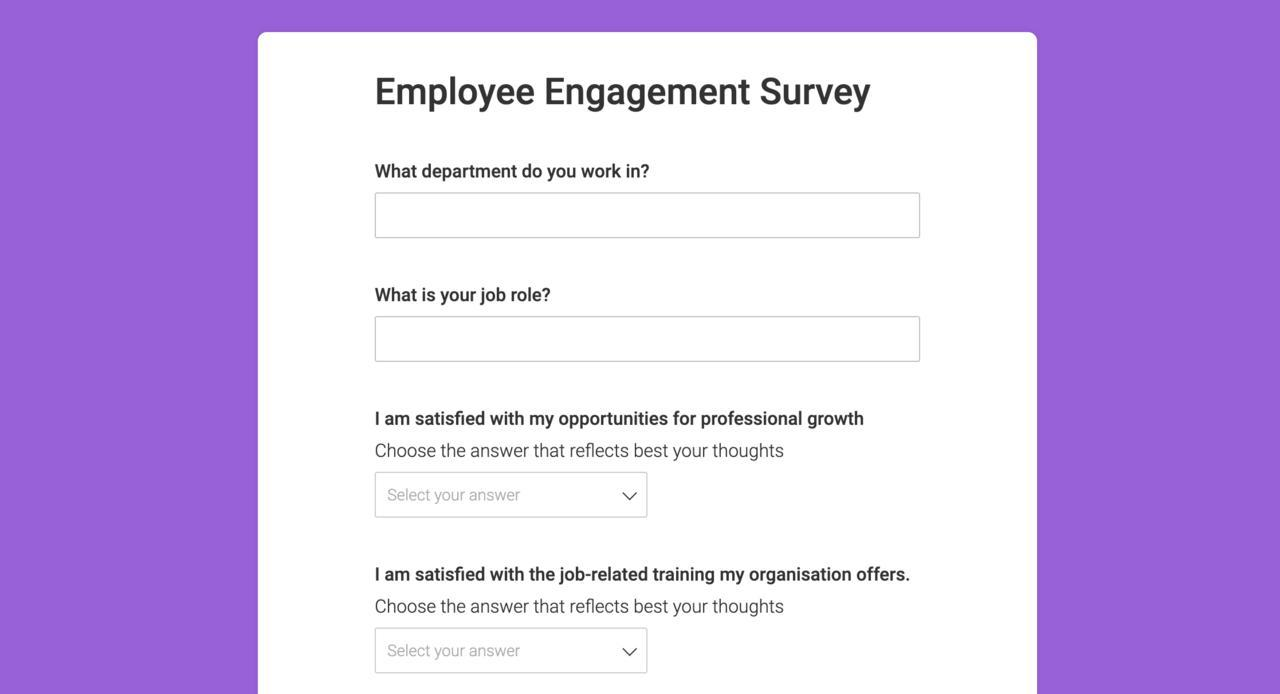dropdown: (373, 470, 646, 518), (376, 626, 647, 674)
input: (373, 191, 921, 239), (374, 316, 922, 362)
label: (368, 406, 882, 465), (366, 71, 886, 118), (370, 157, 655, 183), (366, 278, 566, 312)
